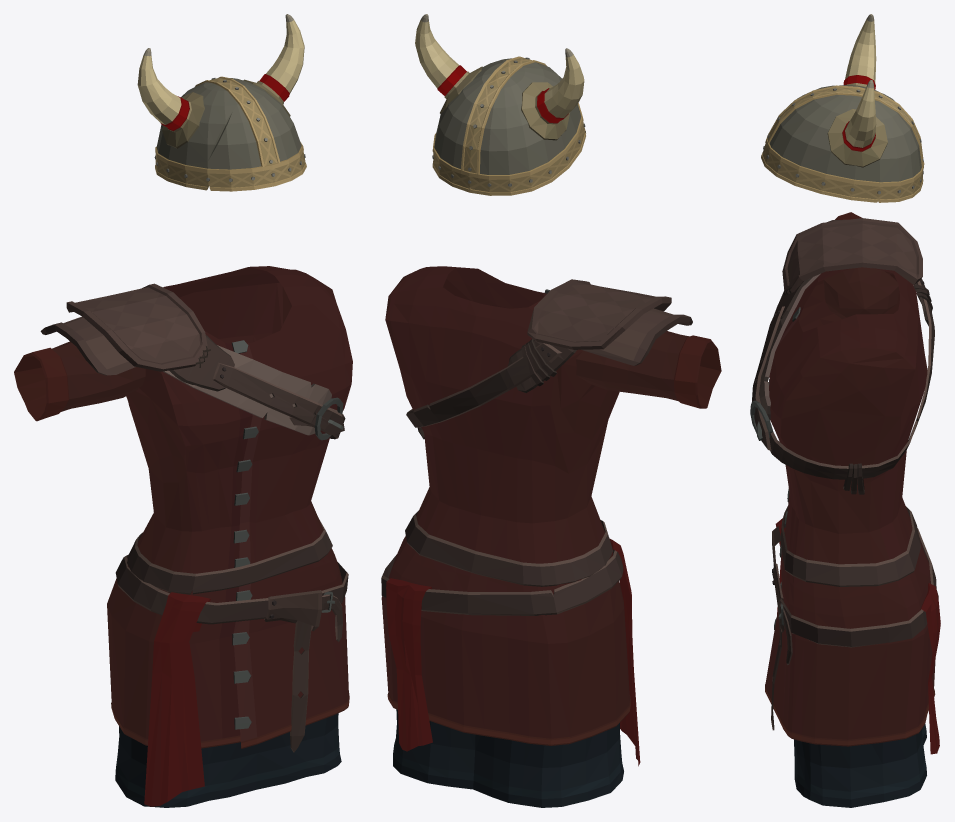
Rendered from vikingArmorPiecesFemale.glb.
The picture shows the model from 3 angles, left to right: view 1: azimuth 30°, elevation 25°; view 2: azimuth 150°, elevation 25°; view 3: azimuth 270°, elevation 25°; orthographic projection. The views are drawn at different scales.
Parts seen in each view (by area): view 1: vikingArmorBody, vikingHelmet, vikingArmorShirtUpperArm; view 2: vikingArmorBody, vikingHelmet, vikingArmorShirtUpperArm; view 3: vikingArmorBody, vikingHelmet, vikingArmorShirtUpperArm.
Part boxes in pixels (left/top/right/bottom): vikingArmorBody: left=40, top=266, right=352, bottom=807; vikingHelmet: left=137, top=14, right=306, bottom=191; vikingArmorShirtUpperArm: left=14, top=341, right=145, bottom=421; vikingArmorBody: left=381, top=266, right=692, bottom=807; vikingHelmet: left=415, top=14, right=585, bottom=195; vikingArmorShirtUpperArm: left=576, top=331, right=721, bottom=408; vikingArmorBody: left=750, top=218, right=940, bottom=807; vikingHelmet: left=761, top=14, right=924, bottom=202; vikingArmorShirtUpperArm: left=823, top=212, right=899, bottom=319.
Size of the model in its own units: 0.6439 by 1.46 by 0.3537.
